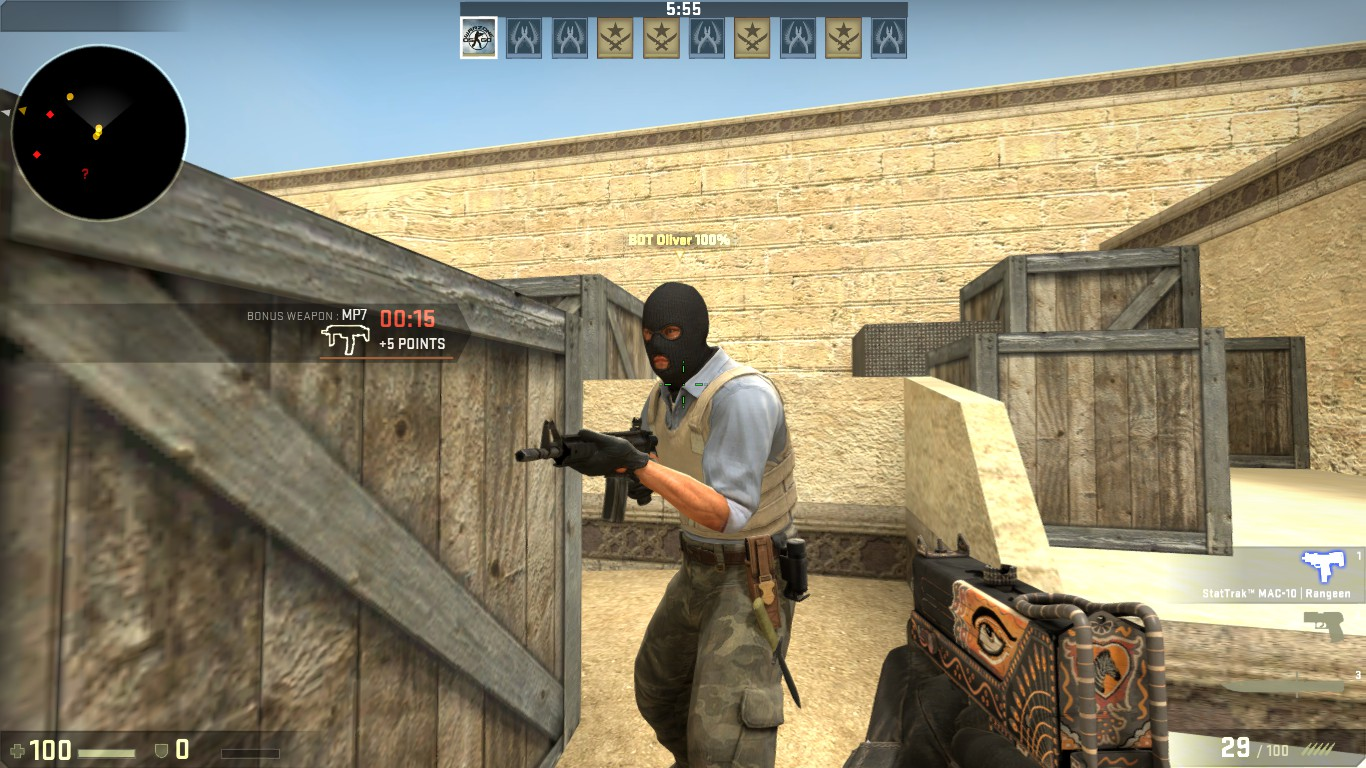t: (582, 278, 813, 768)
th: (632, 278, 718, 383)
